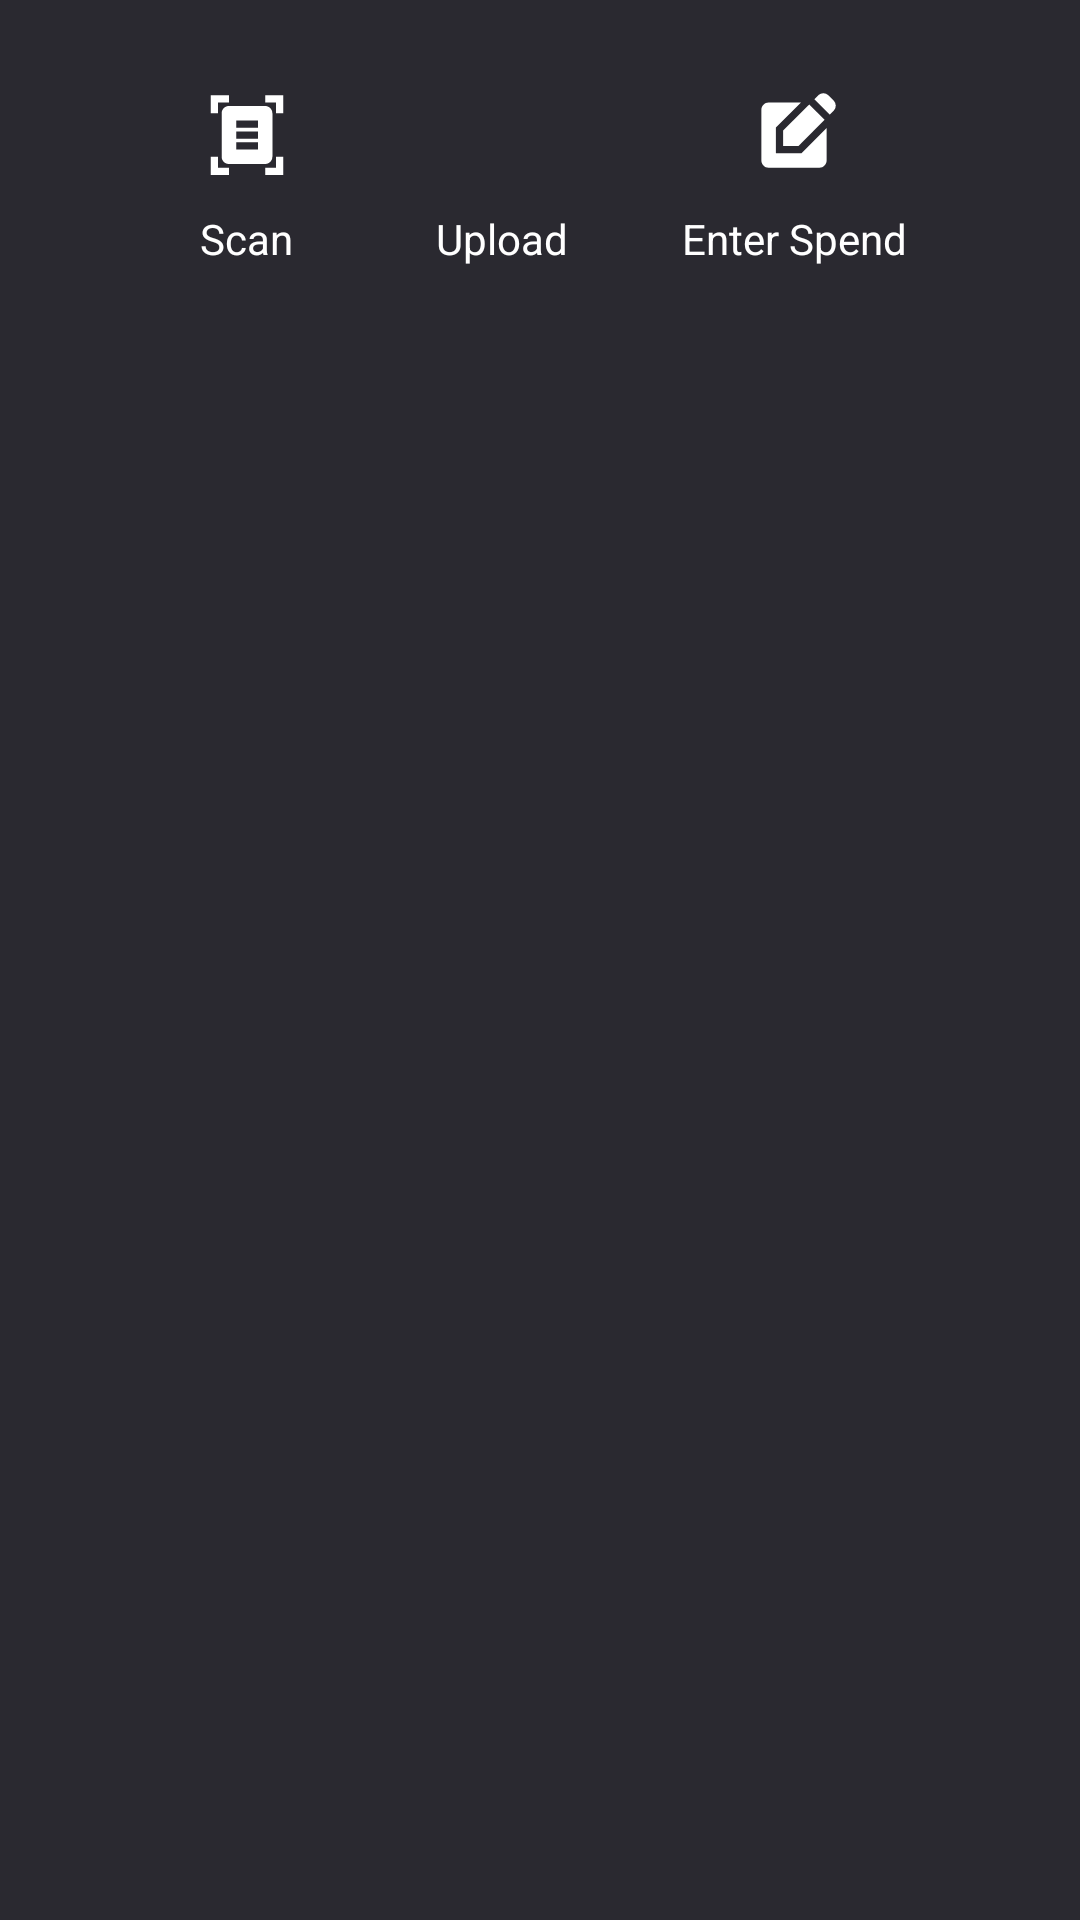

Where to tap for icons on this 1080 x 1920 app screen, as (x=x, y=y):
manual add: (x=798, y=130)
